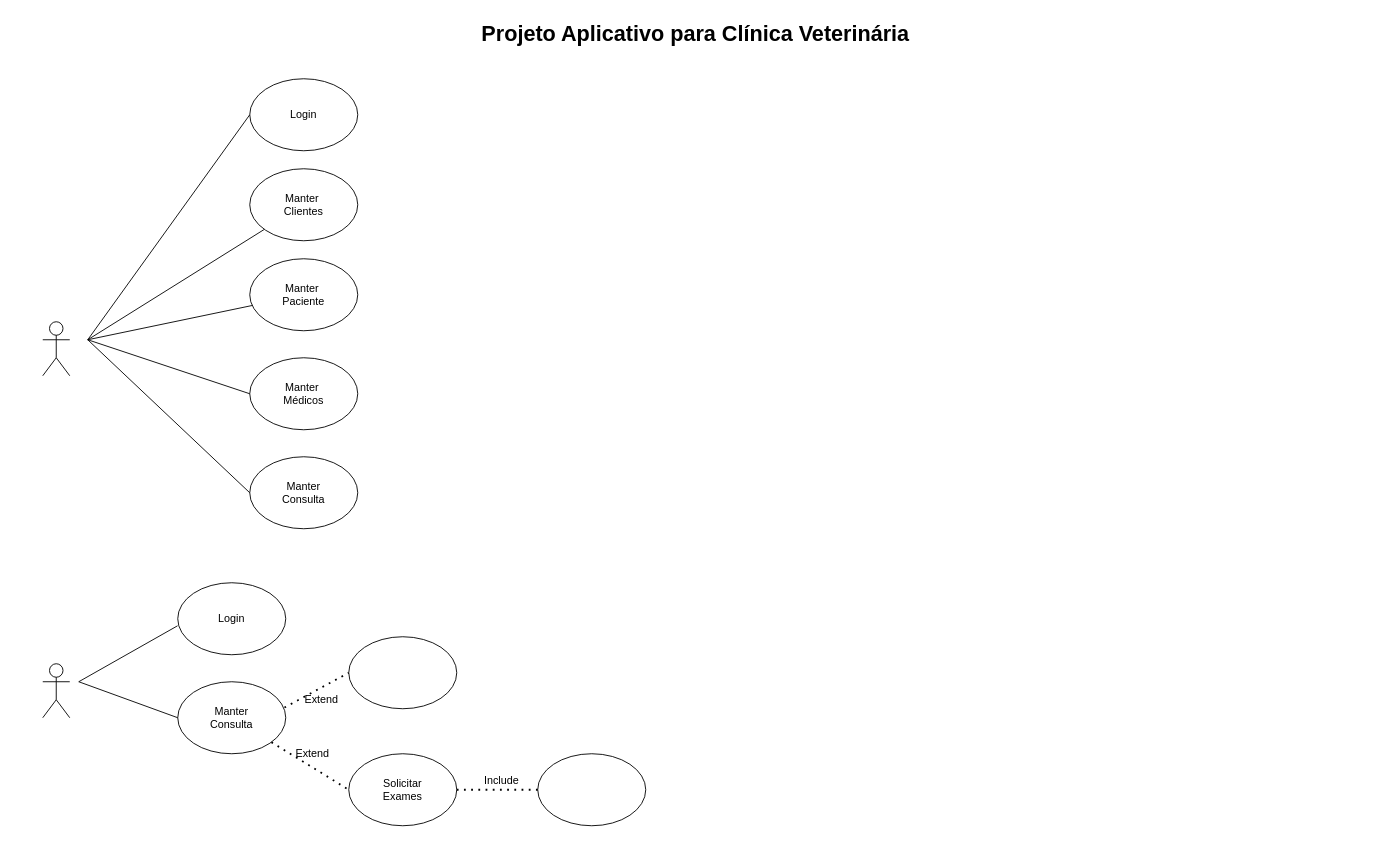
Some shapes in this 1390 by 842 pixel diagram are drawn without their labels. The box of each missing label's shape, as (x1, y1, x2, y2) in pixels:
Enviar guia: (537, 753, 646, 826)
Médico: (42, 663, 70, 718)
Prescrever Medicamento: (348, 636, 457, 709)
Secretária: (42, 321, 70, 376)
